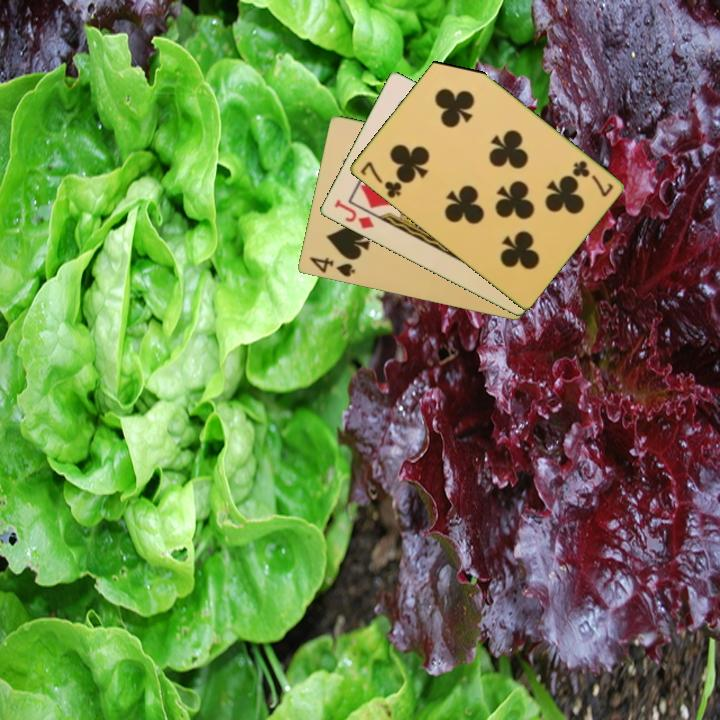4s: (306, 253, 358, 280)
7c: (356, 158, 404, 201), (568, 157, 616, 200)
Jd: (330, 196, 377, 232)
